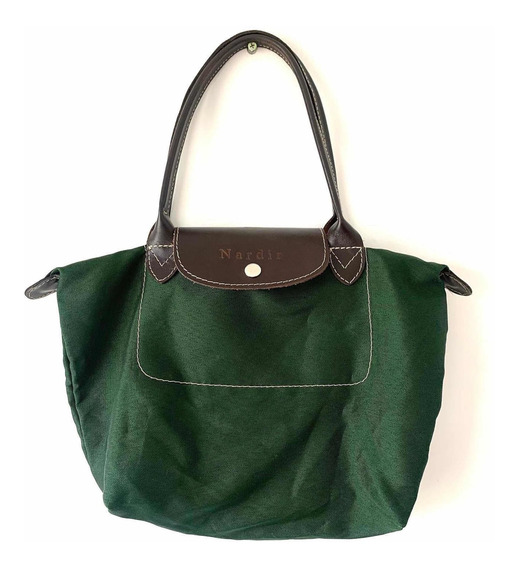cartera: (53, 29, 451, 541)
